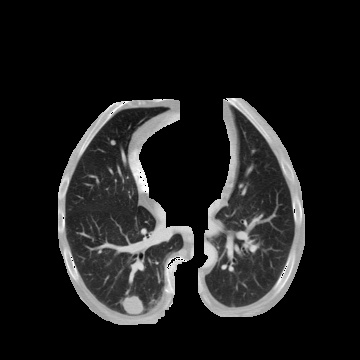PN: (110, 139, 116, 145)
